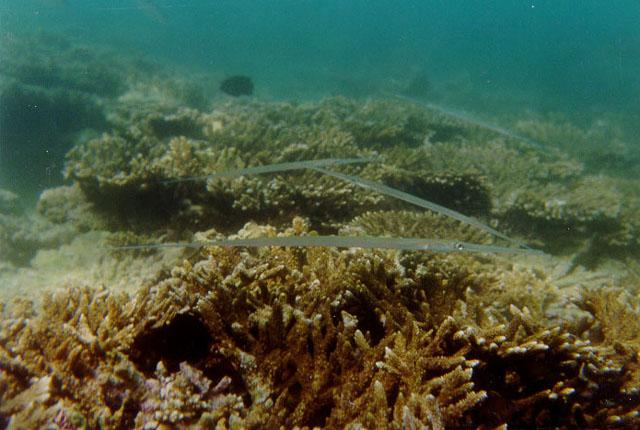Fistularia commersonii: (212, 143, 569, 255), (87, 223, 593, 300), (386, 81, 571, 165)
